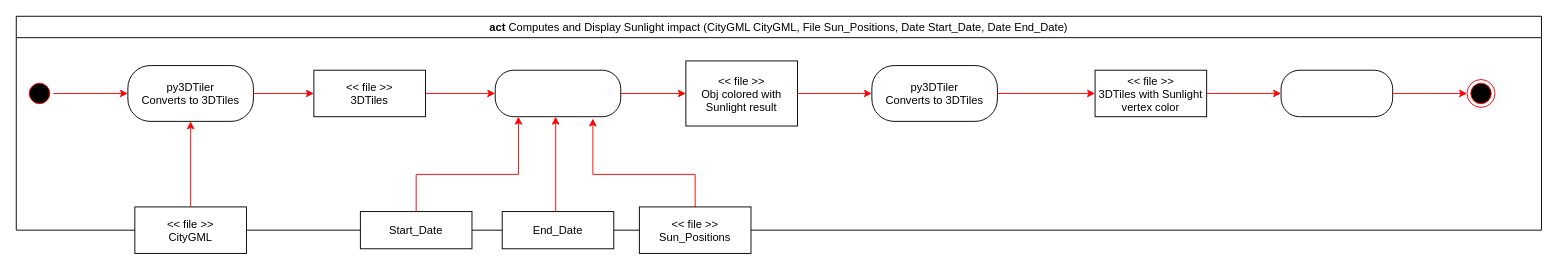
Image size: 1558x270. Some labels were removed from this diagram. Here are the shapes that lost their labels. From the top down, the centre of each, then its label:
At (557,93): "pySunlight Computes Sunlight".
At (1336,93): "Demo-Sunlight Display result".
